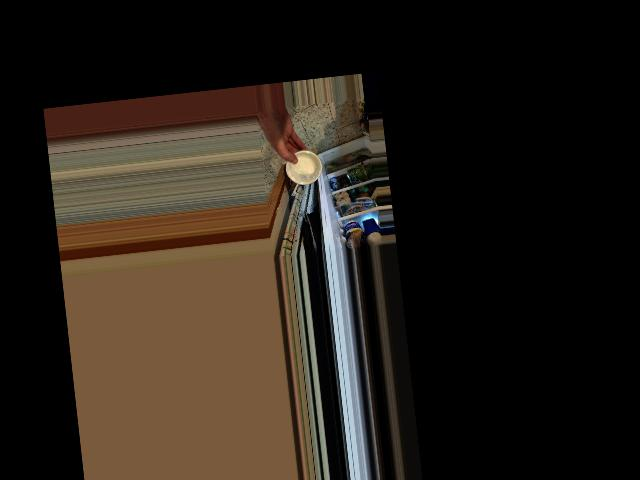cotage: (286, 150, 322, 186)
